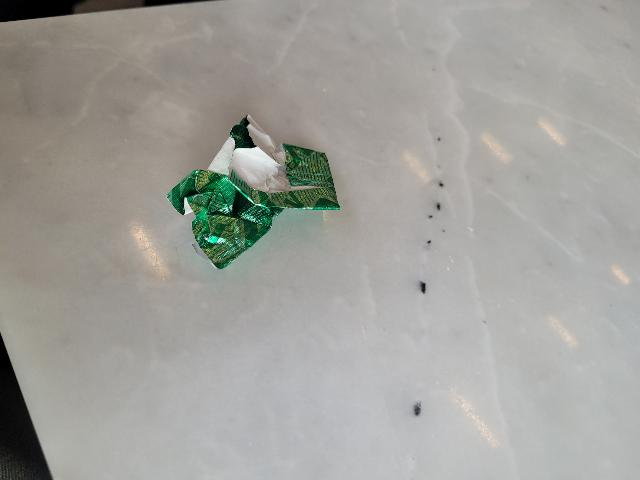Plastik: (147, 116, 355, 264)
